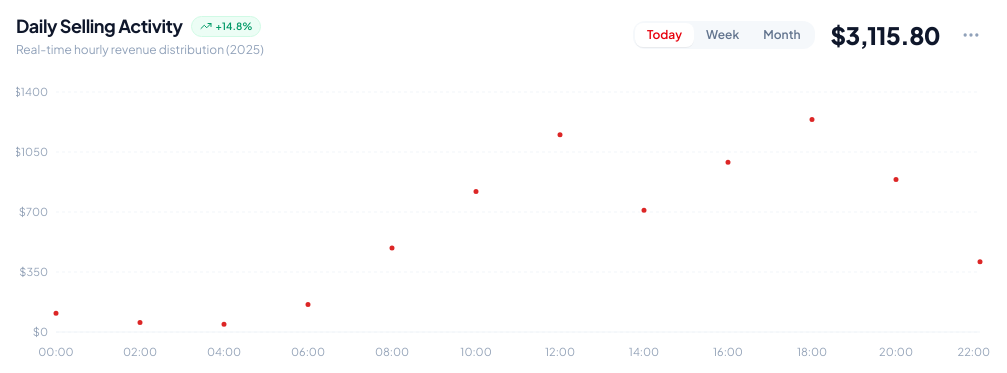
dashboard components › allows switching the chart filter and opening the menu
Click the button "Week".
click(723, 35)  # box x1=694 y1=23 x2=751 y2=47
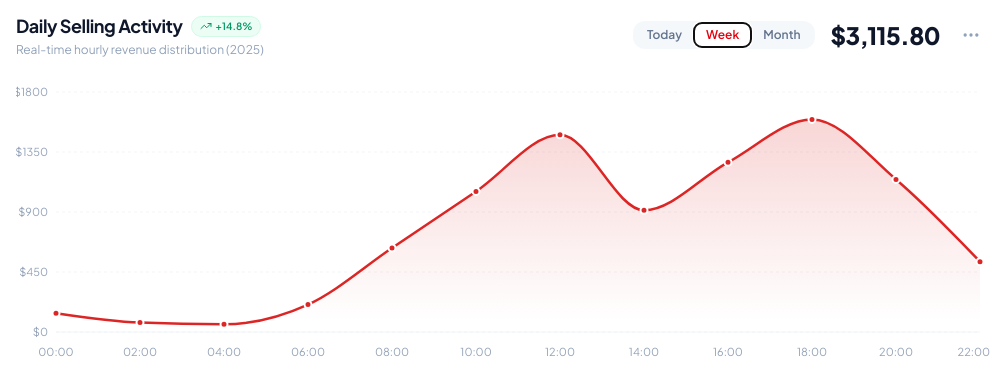
Expected: the text "Real-time hourly revenue distribution (2025)" is shown, x1=16 y1=42 x2=264 y2=58
Click the button named "daily selling options".
click(971, 35)  # box x1=952 y1=16 x2=990 y2=54
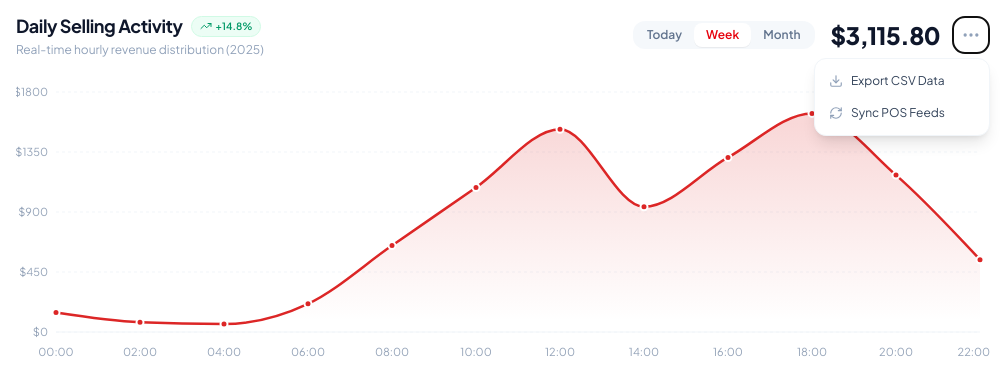
Expected: the text "Export CSV Data" is shown, x1=851 y1=73 x2=945 y2=89
Expected: the text "Sync POS Feeds" is shown, x1=851 y1=105 x2=945 y2=121
